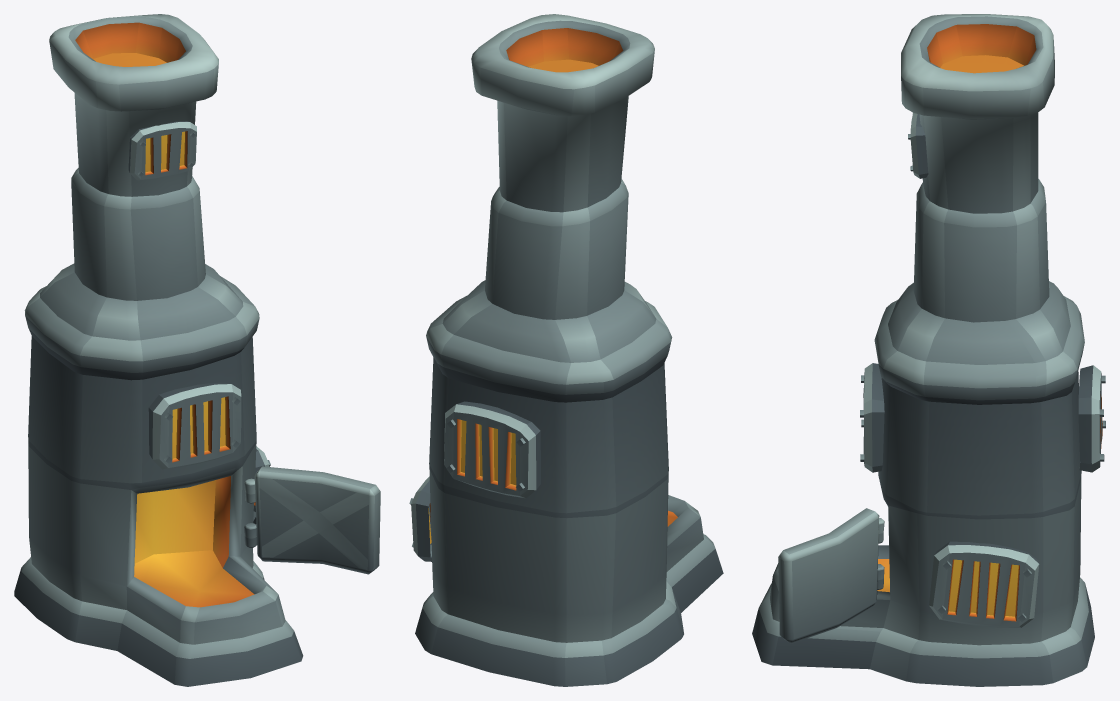
File: smithy_oven_mid.fbx
The picture shows the model from 3 angles, left to right: view 1: azimuth 30°, elevation 25°; view 2: azimuth 150°, elevation 25°; view 3: azimuth 270°, elevation 25°; orthographic projection. The views are drawn at different scales.
Visible parts, largest first — view 1: smithy_oven_mid; view 2: smithy_oven_mid; view 3: smithy_oven_mid.
Part boxes in pixels (x1,y1,x2,y2): smithy_oven_mid: [14, 14, 380, 686]; smithy_oven_mid: [409, 14, 723, 686]; smithy_oven_mid: [752, 14, 1105, 686].
Size of the model in its own units: 474 by 1040 by 568.
